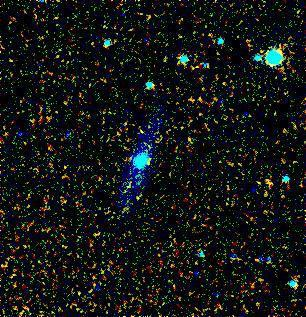star: (133, 148, 163, 178)
